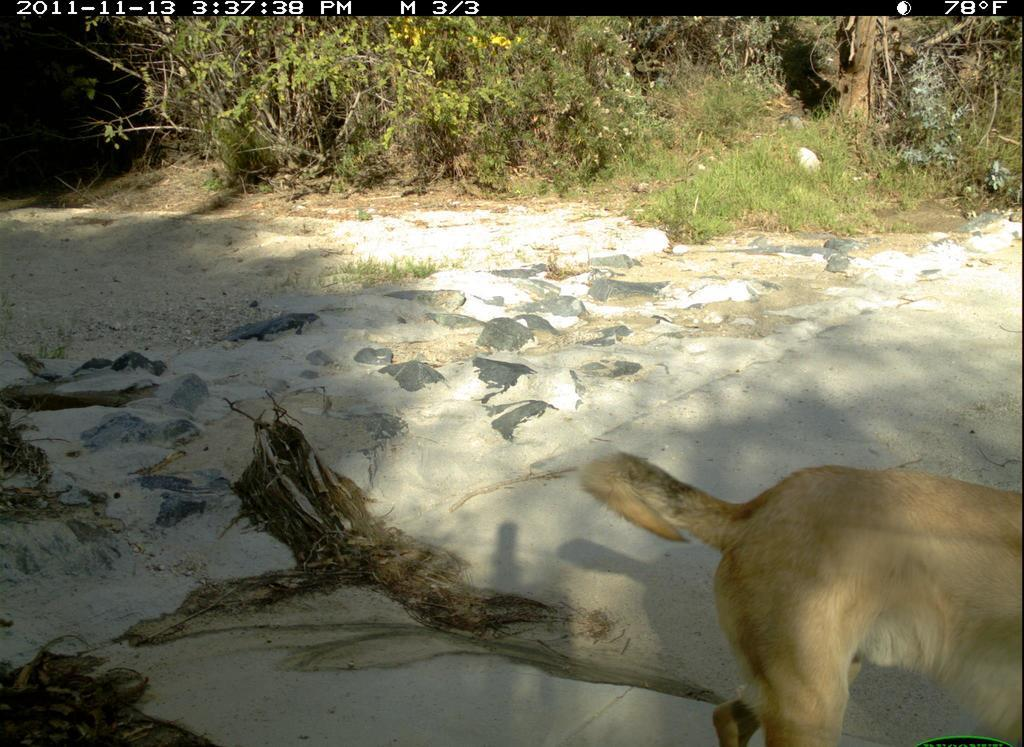dog: (585, 423, 1014, 747)
